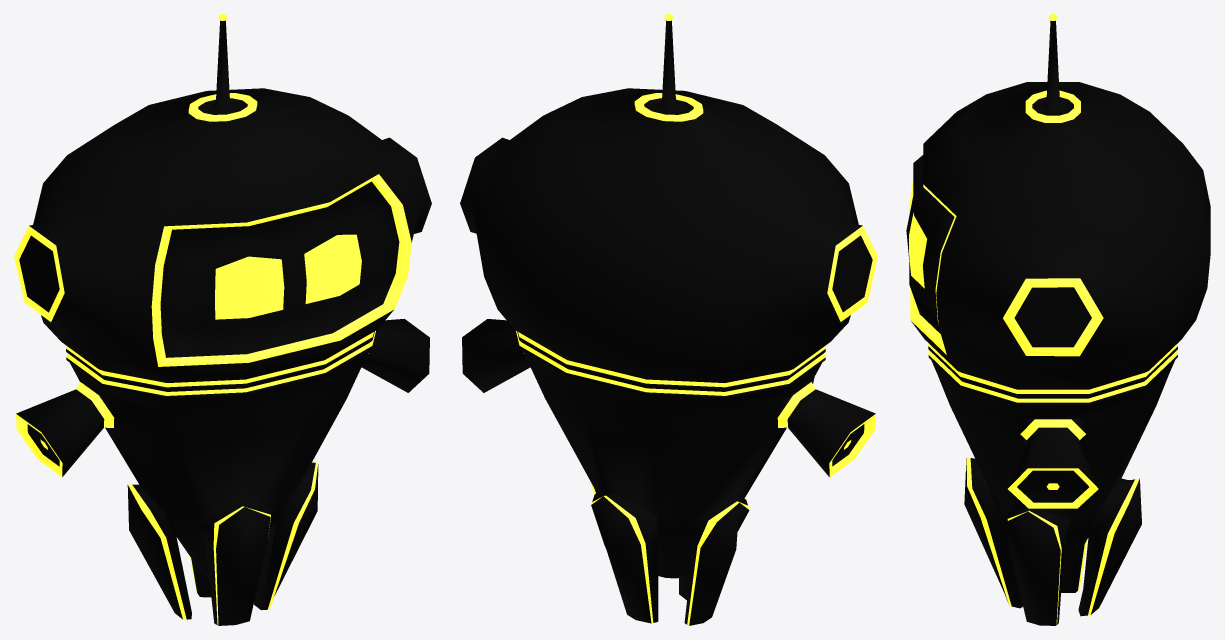
The model's file is alice.glb.
3 renders of one model, left to right at view 1: azimuth 30°, elevation 25°; view 2: azimuth 150°, elevation 25°; view 3: azimuth 270°, elevation 25°, orthographic.
Parts seen in each view (by area): view 1: robot; view 2: robot; view 3: robot.
Part boxes in pixels (x1,y1,x2,y2): robot: [14, 14, 431, 625]; robot: [460, 14, 877, 625]; robot: [906, 14, 1210, 625].
Size of what is drawn, in the model's own units: 1.41 by 2.06 by 0.9607.
